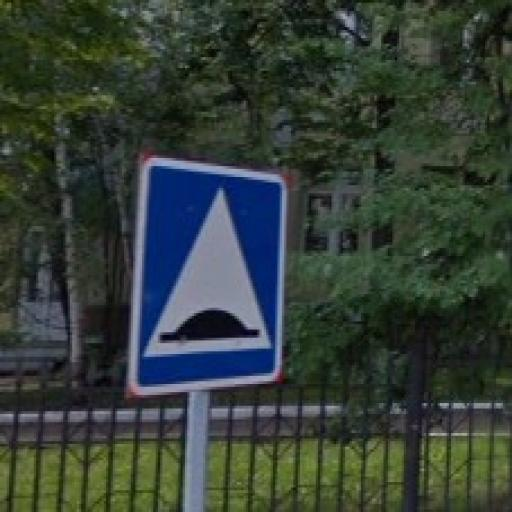traffic_sign: (130, 159, 290, 396)
